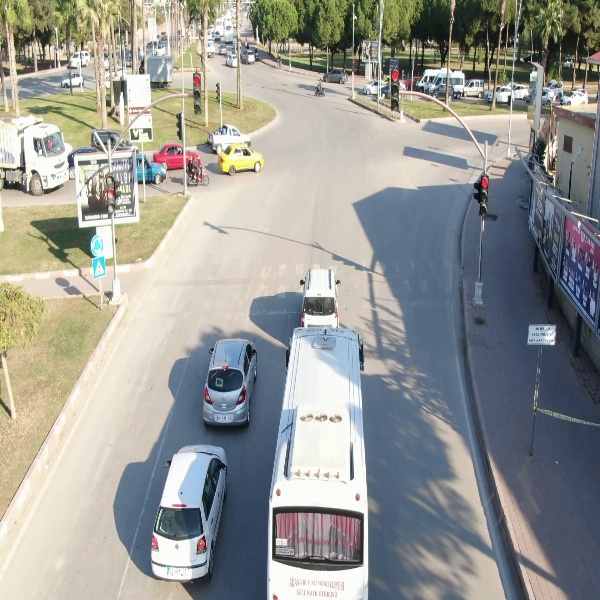car: (147, 439, 232, 583), (198, 335, 261, 428), (219, 141, 265, 175), (320, 66, 349, 84), (558, 90, 589, 106), (60, 70, 86, 89)
